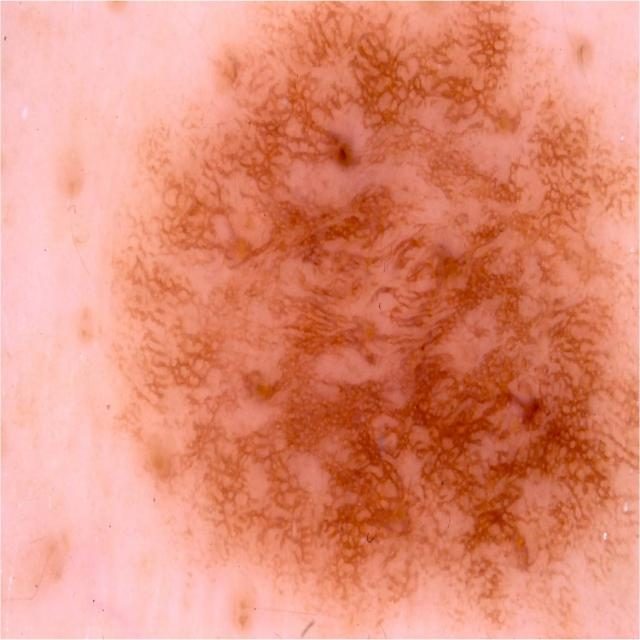Benign: (114, 9, 639, 618)
